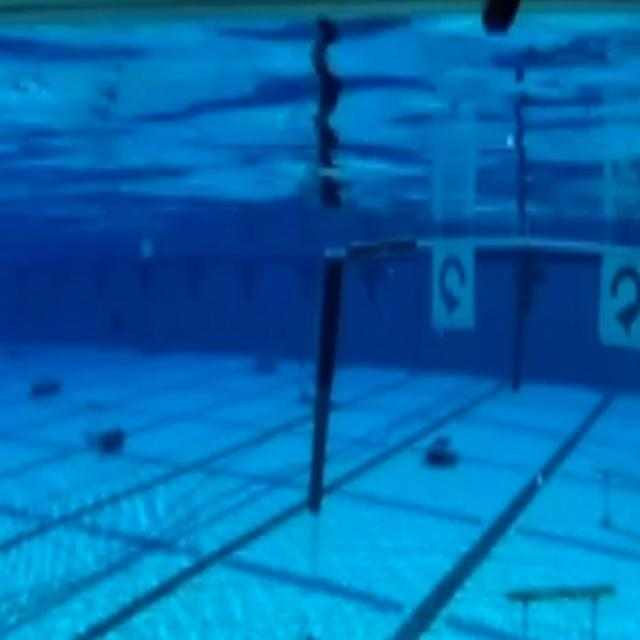Gate: (289, 235, 637, 526)
